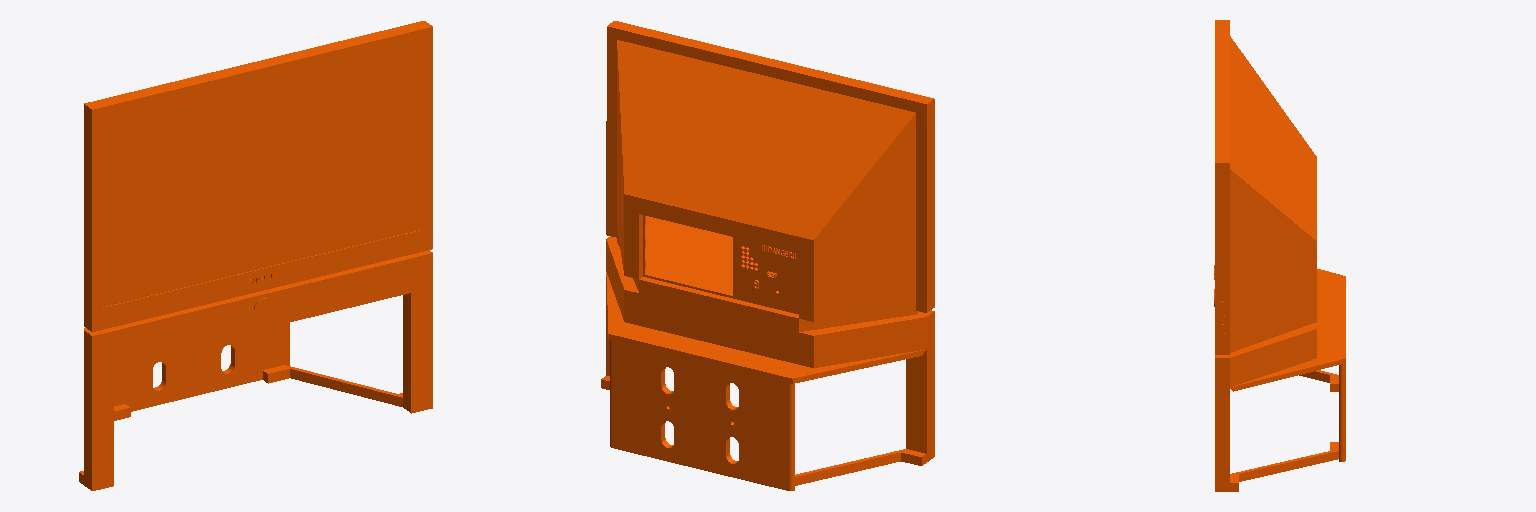
robot.urdf — TV_4e91c910284596f8e07baffadfce74d8:
<?xml version="1.0" ?>
<robot name="TV_4e91c910284596f8e07baffadfce74d8">
   <material name="obj_color">
      <color rgba="1.0 0.423529411765 0.0392156862745 1.0"/>
   </material>
   <link name="top">
      <inertial>
         <origin rpy="6.031805772313146e-05 7.155729287088318e-05 0.0001162374819200385" xyz="0.0001314307225298445 -0.001527328830006493 -0.004285224829490758"/>
         <mass value="0.1318967384069279"/>
         <inertia ixx="7.155405332695002e-05" ixy="-1.643526267778076e-07" ixz="1.852790773580189e-07" iyy="0.000115447680047496" iyz="6.596512694252326e-06" izz="6.111109913960704e-05"/>
      </inertial>
      <visual>
         <origin rpy="0 0 0" xyz="0 0 0"/>
         <geometry>
            <mesh filename="top_watertight_tiny.stl" scale="1 1 1"/>
         </geometry>
         <material name="obj_color"/>
      </visual>
      <collision>
         <origin rpy="0 0 0" xyz="0 0 0"/>
         <geometry>
            <mesh filename="top_watertight_tiny.obj" scale="1 1 1"/>
         </geometry>
      </collision>
   </link>
   <link name="bottom">
      <inertial>
         <origin rpy="1.633333333199431e-08 1.633333333199431e-08 1.633333333362855e-08" xyz="0.3464080000000008 0.3464080000000008 0.3464080000000008"/>
         <mass value="0.0009800000000000017"/>
         <inertia ixx="1.633333333253906e-08" ixy="5.447480642029219e-19" ixz="5.447480642029219e-19" iyy="1.633333333253906e-08" iyz="5.447480642029219e-19" izz="1.633333333253906e-08"/>
      </inertial>
      <visual>
         <origin rpy="0 0 0" xyz="0 0 0"/>
         <geometry>
            <mesh filename="bottom_watertight_tiny.stl" scale="1 1 1"/>
         </geometry>
         <material name="obj_color"/>
      </visual>
   </link>
   <link name="world"/>
   <joint name="world_to_base" type="fixed">
      <origin xyz="0 0 0"/>
      <axis xyz="0 0 0"/>
      <parent link="world"/>
      <child link="bottom"/>
   </joint>
   <joint name="rotation" type="revolute">
      <origin xyz="0 0 0"/>
      <axis xyz="0 0 -1"/>
      <parent link="bottom"/>
      <child link="top"/>
      <dynamics damping="1.0" friction="1.0"/>
      <limit effort="0.1" velocity="0.1" lower="0" upper="0.001"/>
   </joint>
</robot>

--- Render facts (derived) ---
The picture shows the robot from 3 angles, left to right: view 1: azimuth 30°, elevation 25°; view 2: azimuth 150°, elevation 25°; view 3: azimuth 270°, elevation 25°; orthographic projection.
Model TV_4e91c910284596f8e07baffadfce74d8 with 3 links and 2 joints (1 revolute, 1 fixed), rooted at world, posed all joints at 0.
Visible links, largest first — view 1: top; view 2: top; view 3: top.
Boxes of the visible links, left/top/right/bottom form: top: left=79, top=21, right=432, bottom=490; top: left=601, top=21, right=934, bottom=490; top: left=1214, top=20, right=1345, bottom=491.
Size in the robot's own frame: 0.0791 by 0.0307 by 0.0844 metres.
1 mesh visuals loaded from 2 distinct referenced files (1 binary STL); not drawn: 1 (reference not matched to a file when rendering).
